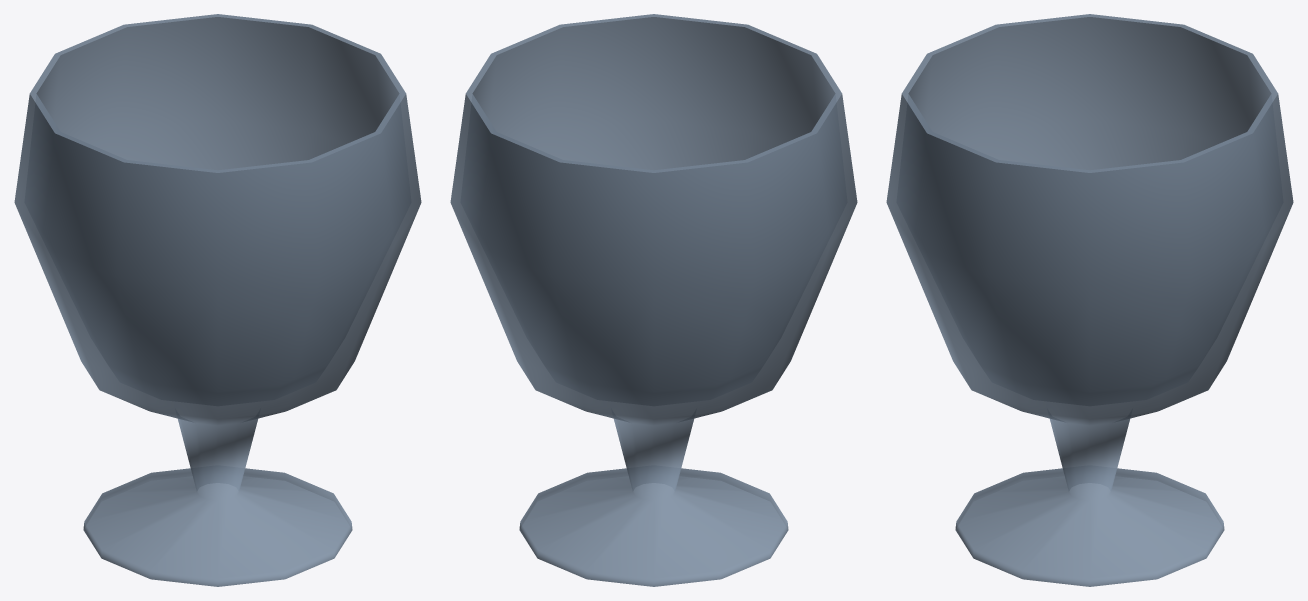
Rendered from mesh_glass_04.fbx.
3 renders of one model, left to right at view 1: azimuth 30°, elevation 25°; view 2: azimuth 150°, elevation 25°; view 3: azimuth 270°, elevation 25°, orthographic.
Parts seen in each view (by area): view 1: mesh_glass_04; view 2: mesh_glass_04; view 3: mesh_glass_04.
Boxes of the visible parts, x1,y1,x2,y2 form: mesh_glass_04: [14, 14, 421, 586]; mesh_glass_04: [450, 14, 857, 586]; mesh_glass_04: [886, 14, 1293, 586].
Bounding box in the file's own units: 0.1109 × 0.1312 × 0.1109.
